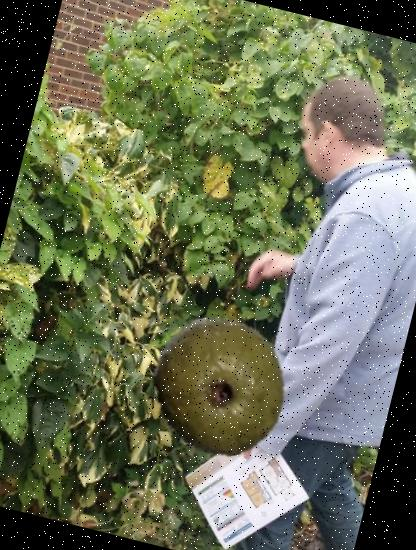Guava: (134, 302, 306, 474)
